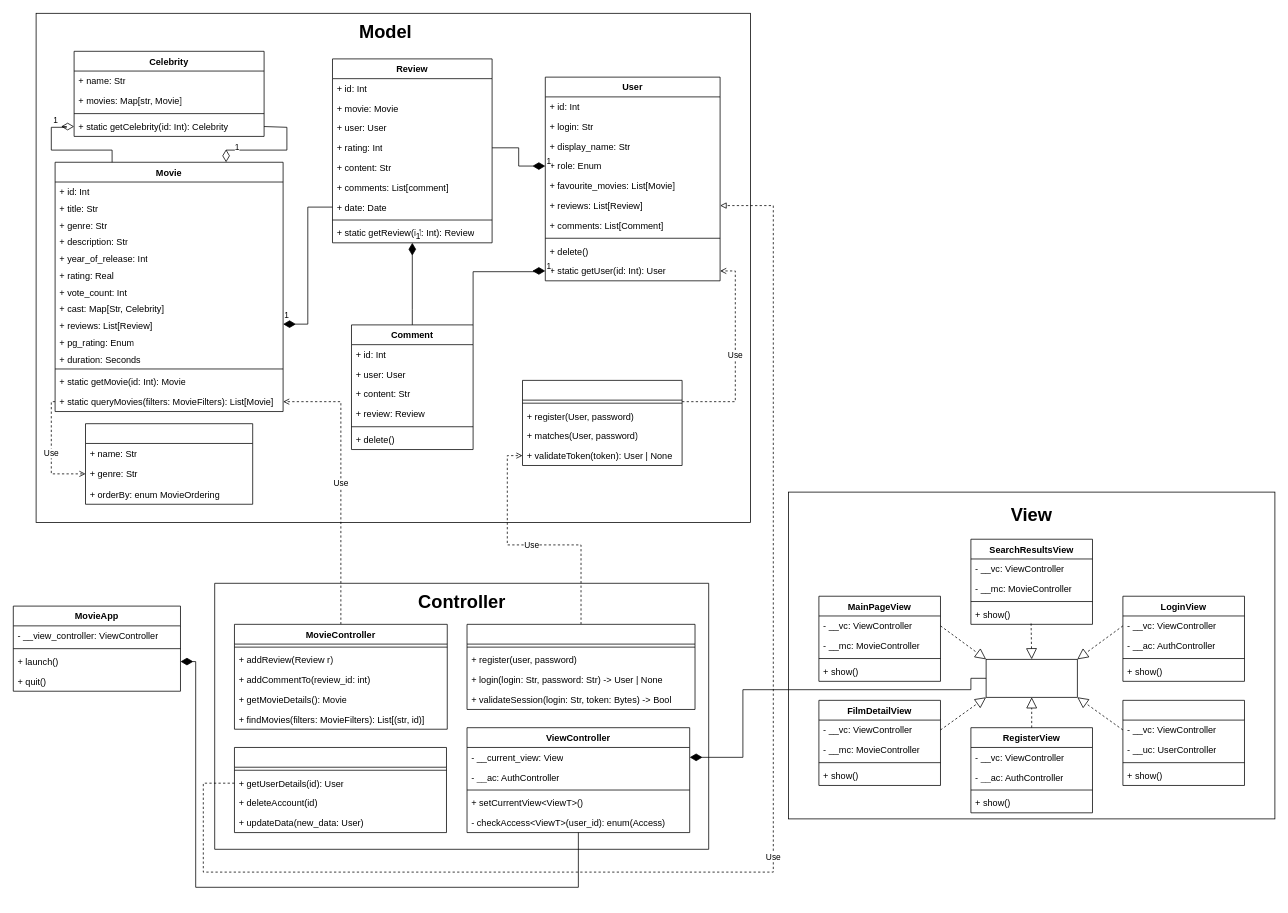
The diagram is 1288 pixels wide and 913 high, and some of its shapes have lost their labels. The shapes that lost their labels are listed below. From the top down, each one's box as (x1, y1, x2, y2) in pixels, then its label:
(522, 380, 682, 466): AuthModel
(85, 423, 253, 504): MovieFilters
(466, 624, 695, 709): AuthController
(985, 659, 1077, 697): «interface» View
(1122, 700, 1244, 785): UserView
(234, 747, 446, 833): UserController
